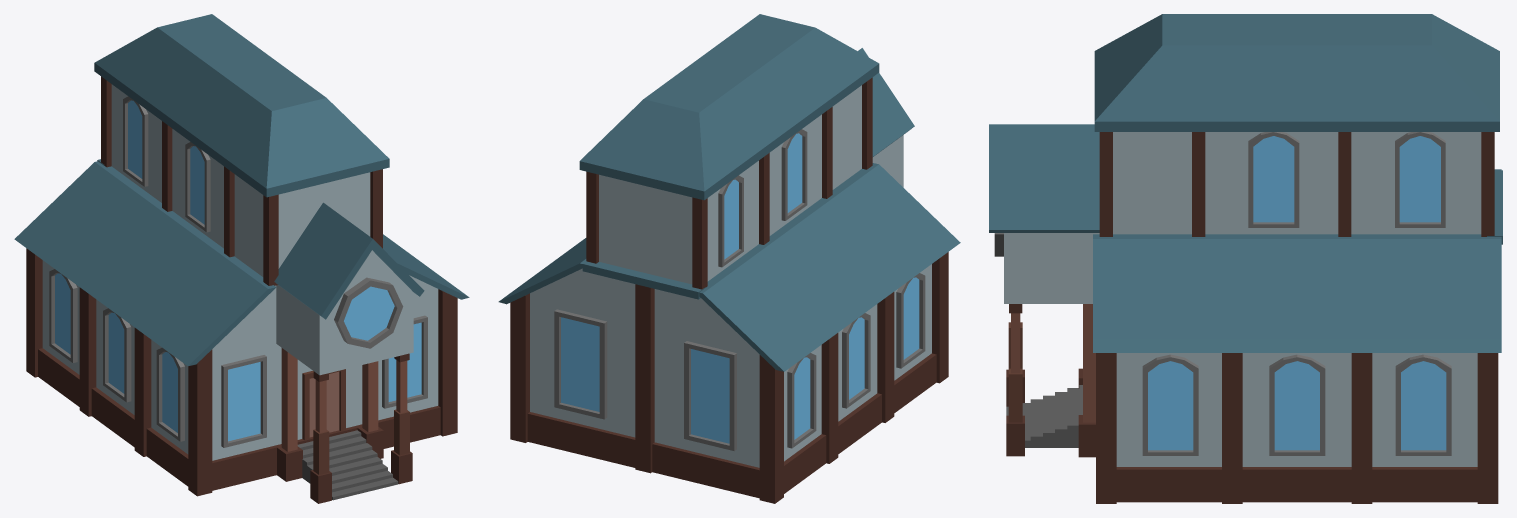
Rendered from CASA03.fbx.
3 renders of one model, left to right at view 1: azimuth 30°, elevation 25°; view 2: azimuth 150°, elevation 25°; view 3: azimuth 270°, elevation 25°, orthographic. The views are drawn at different scales.
Visible parts, largest first — view 1: CASA03; view 2: CASA03; view 3: CASA03.
Part boxes in pixels (bbox=[...]): CASA03: bbox=[14, 14, 469, 503]; CASA03: bbox=[498, 14, 960, 503]; CASA03: bbox=[989, 14, 1502, 503].
Size of the model in its own units: 1312 by 1510 by 1760.
Materials: 1 (1 with a texture image).
